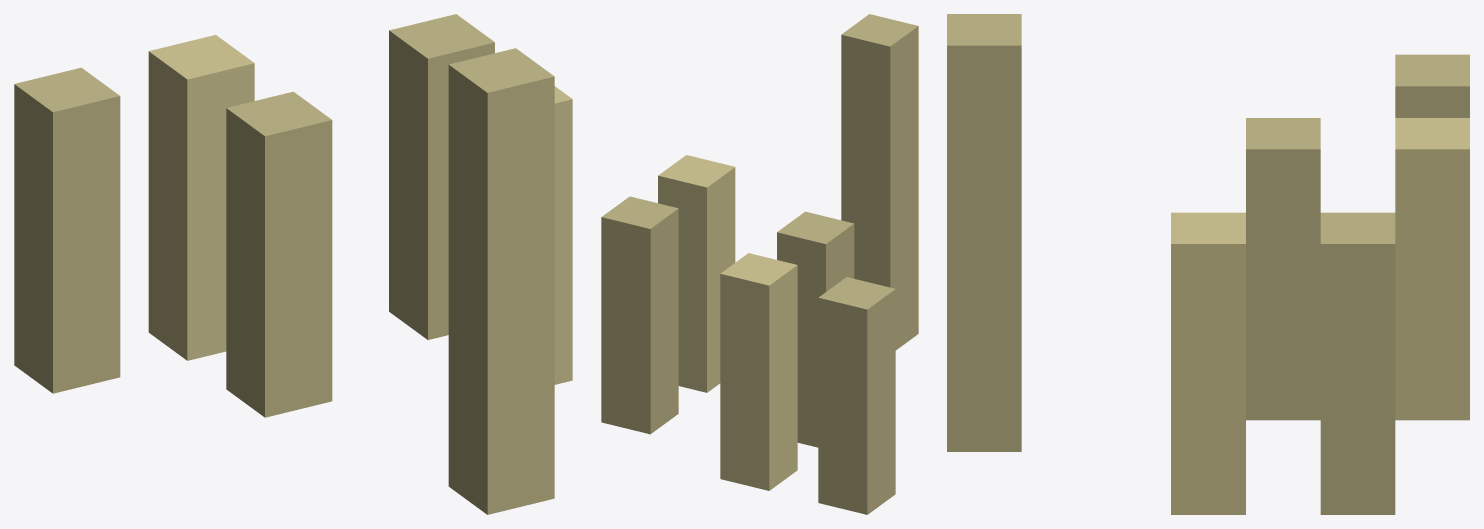
The model's file is esparto_02.glb.
The picture shows the model from 3 angles, left to right: view 1: azimuth 30°, elevation 25°; view 2: azimuth 150°, elevation 25°; view 3: azimuth 270°, elevation 25°; orthographic projection. The views are drawn at different scales.
Parts seen in each view (by area): view 1: esparto_02; view 2: esparto_02; view 3: esparto_02.
Boxes of the visible parts, <box> form: esparto_02: <box>14,14,572,514</box>; esparto_02: <box>601,14,918,514</box>; esparto_02: <box>947,14,1469,514</box>.
Bounding box in the file's own units: 0.6 × 0.6 × 0.7.
